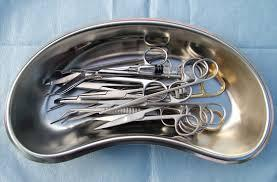Kidney Tray: (6, 16, 270, 166)
